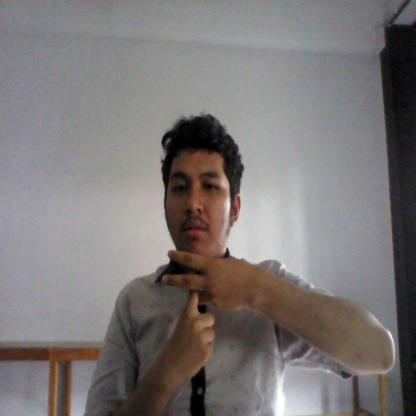F: (160, 246, 248, 380)
